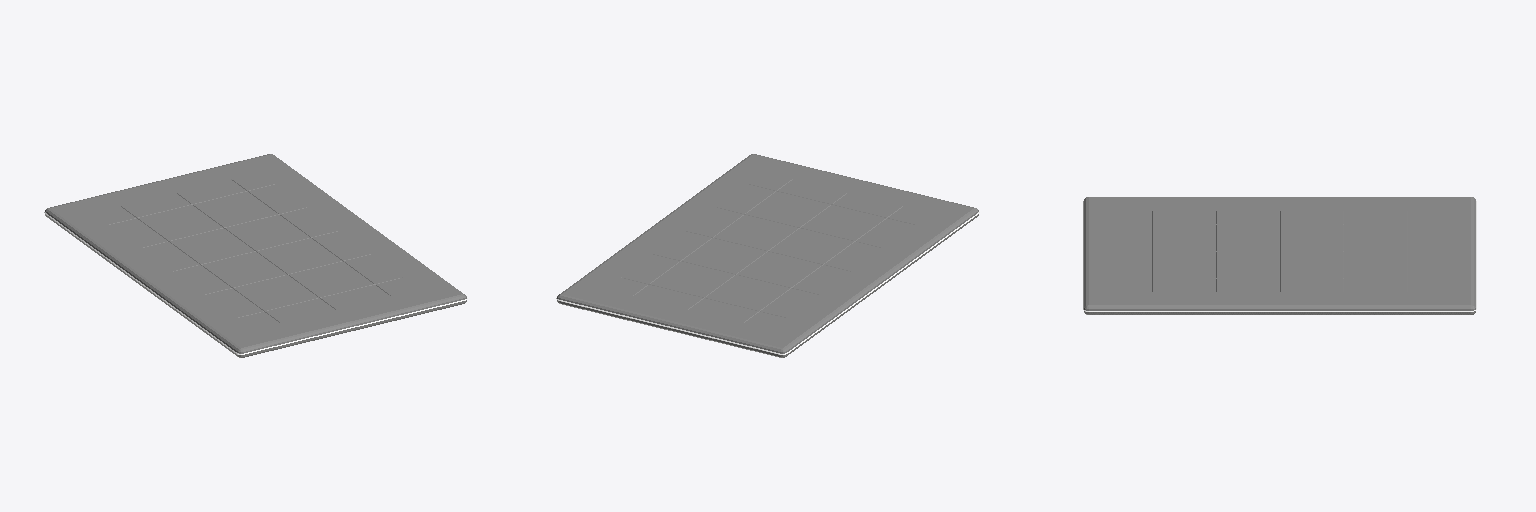
3 views of the same model, side by side, from view 1: azimuth 30°, elevation 25°; view 2: azimuth 150°, elevation 25°; view 3: azimuth 270°, elevation 25° (orthographic).
Parts seen in each view (by area): view 1: white.002; view 2: white.002; view 3: white.002.
Boxes of the visible parts, x1,y1,x2,y2 form: white.002: [44, 154, 467, 357]; white.002: [556, 154, 979, 357]; white.002: [1083, 197, 1476, 314].
Size of the model in its own units: 3.67 by 0.1462 by 5.42.
Materials: 3 (1 with a texture image).